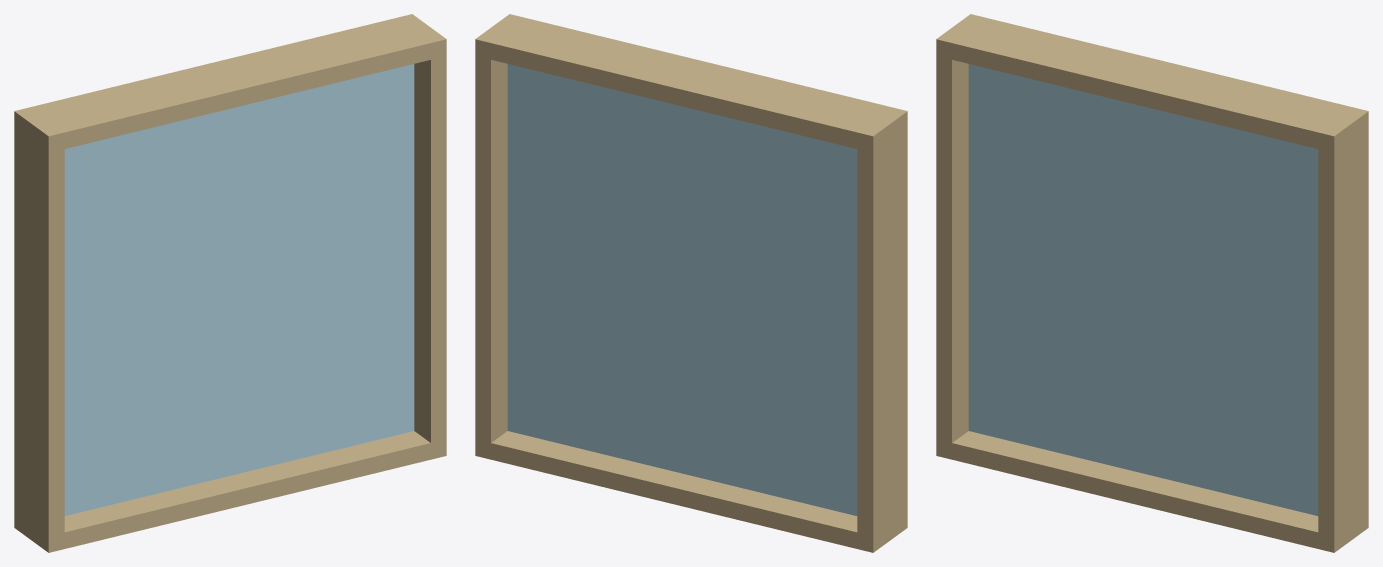
Rendered from janela_100x100.glb.
3 views of the same model, side by side, from view 1: azimuth 30°, elevation 25°; view 2: azimuth 150°, elevation 25°; view 3: azimuth 330°, elevation 25° (orthographic).
Parts seen in each view (by area): view 1: janela_100x100; view 2: janela_100x100; view 3: janela_100x100.
Part boxes in pixels (box(x1,y1,x2,y2)): janela_100x100: box(14, 14, 446, 552); janela_100x100: box(475, 14, 907, 552); janela_100x100: box(936, 14, 1368, 552).
Size of the model in its own units: 1 by 1 by 0.15.
